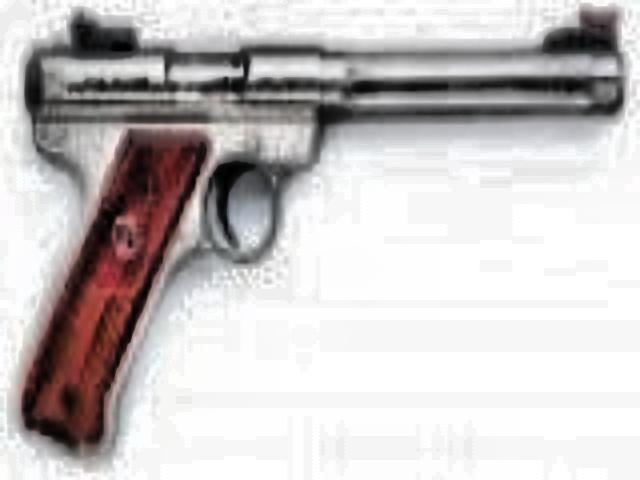pistol: (12, 0, 616, 444)
